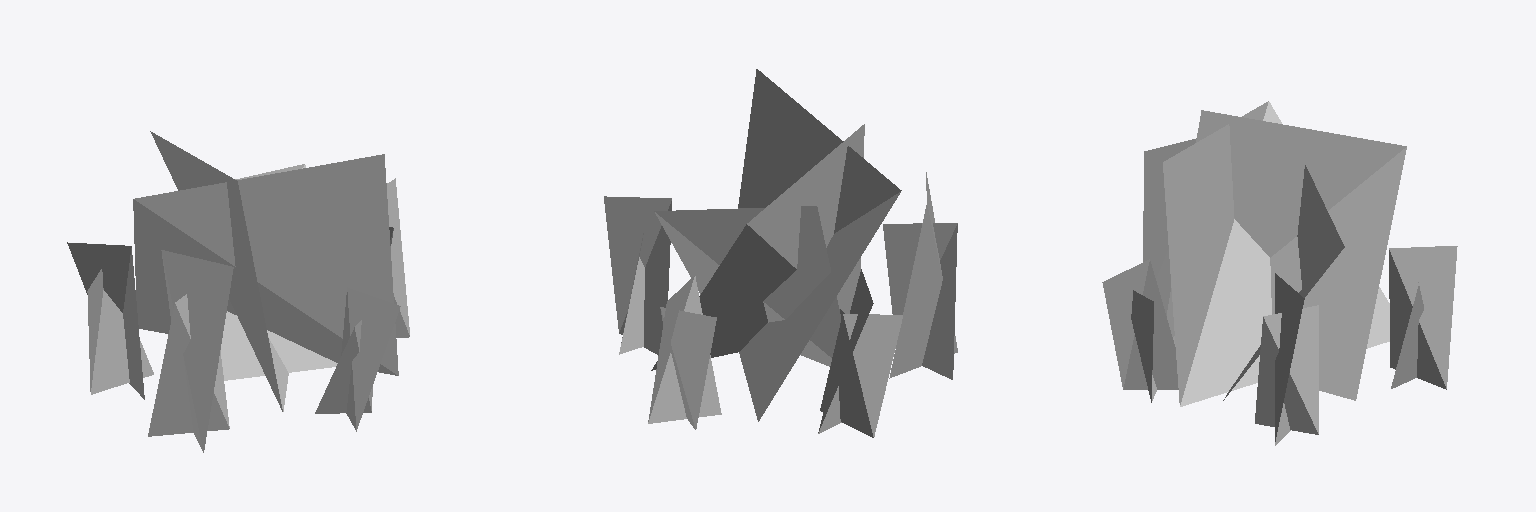
Rendered from fallforestgrassobj01.obj.
The picture shows the model from 3 angles: view 1: azimuth 30°, elevation 25°; view 2: azimuth 150°, elevation 25°; view 3: azimuth 270°, elevation 25°; orthographic projection.
Parts seen in each view (by area): view 1: FallForestGrassObj01_0; view 2: FallForestGrassObj01_0; view 3: FallForestGrassObj01_0.
Boxes of the visible parts, x1=… form: FallForestGrassObj01_0: x1=67, y1=131, x2=409, y2=452; FallForestGrassObj01_0: x1=604, y1=69, x2=957, y2=437; FallForestGrassObj01_0: x1=1102, y1=101, x2=1457, y2=445.
Size of the model in its own units: 79.75 by 64.07 by 80.68.